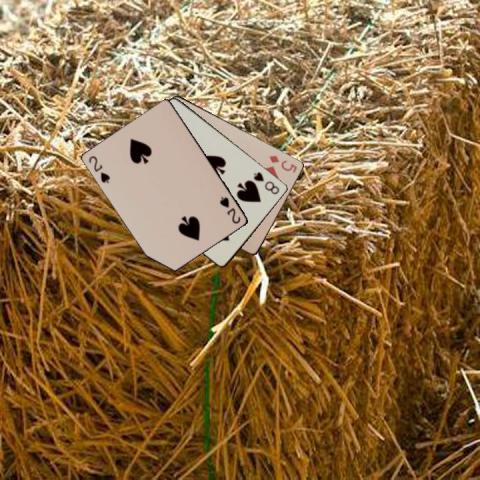2s: (86, 153, 112, 184), (217, 194, 242, 226)
5d: (266, 152, 299, 174)
8s: (251, 169, 281, 196)
